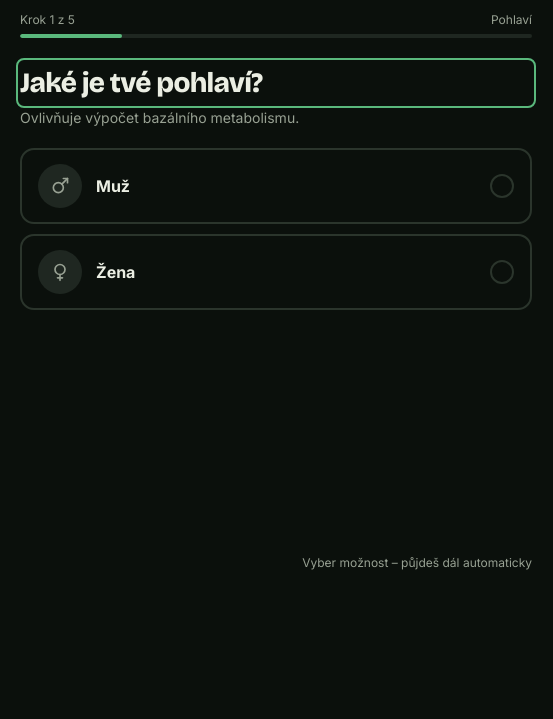
Cílový průvodce › cíl „Udržet váhu“ přeskočí krok tempo a jde rovnou na souhrn
The width and height of the screenshot is (553, 719).
Click the radio button labelled "Muž" at (60, 186), box [20,148,532,224]
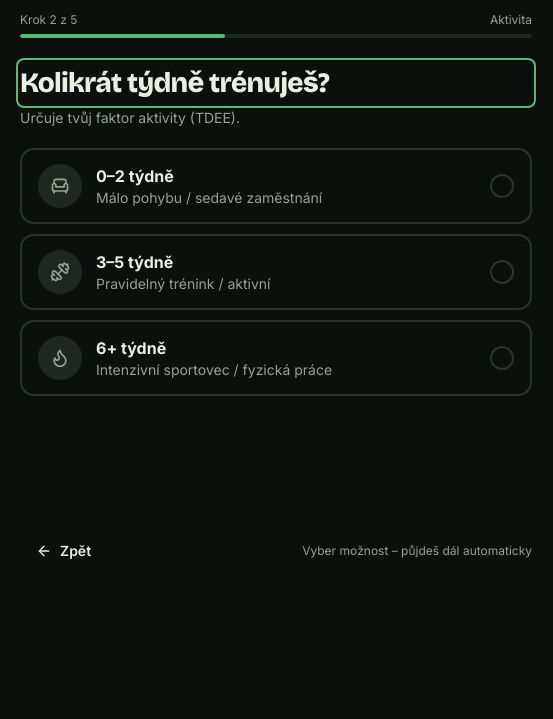
expect the text "Krok 2 z 5" is shown: met, box [20,12,77,28]
expect the heading "Kolikrát týdně trénuješ?" is shown: met, box [20,66,329,100]
Click the radio button labelled "0–2 týdně Málo pohybu / sedavé zaměstnání" at (276, 186), box [20,148,532,224]
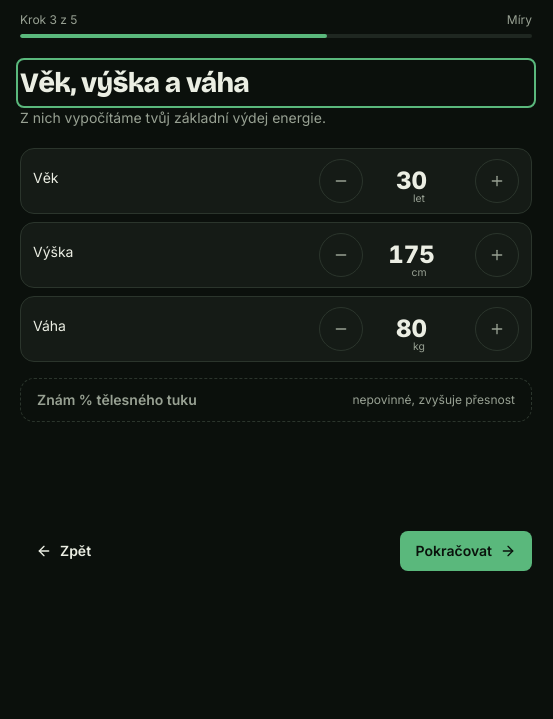
expect the text "Krok 3 z 5" is shown: met, box [20,12,78,28]
expect the button "Pokračovat" is shown: met
Click the button "Pokračovat" at (466, 551), box [400,531,532,571]
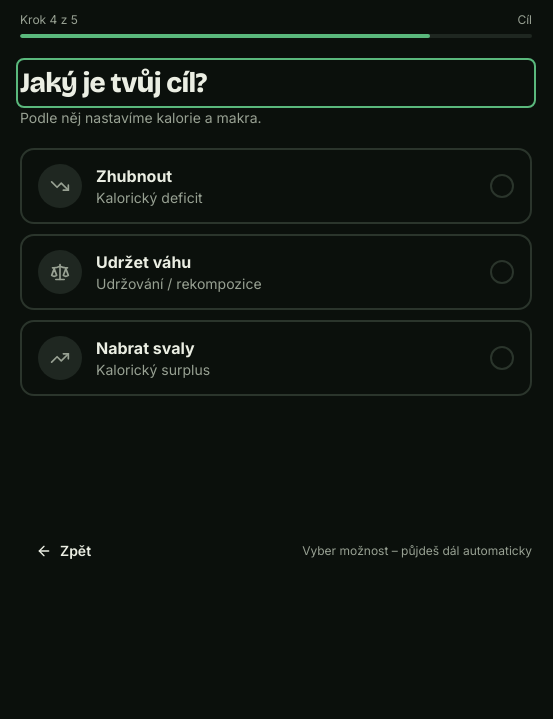
expect the heading "Jaký je tvůj cíl?" is shown: met, box [20,66,206,100]
Click the radio button labelled "Udržet váhu Udržování / rekompozice" at (60, 272), box [20,234,532,310]
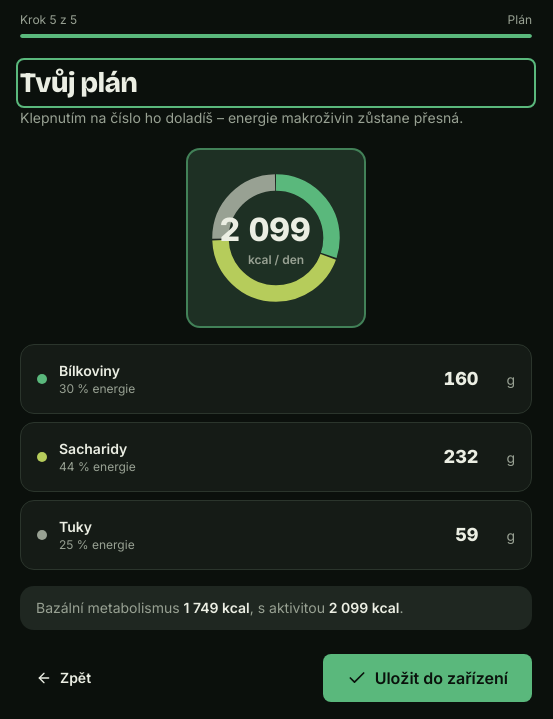
expect the heading "Tvůj plán" is shown: met, box [20,66,137,100]
expect the button "Uložit do zařízení" is shown: met, box [323,654,532,702]
